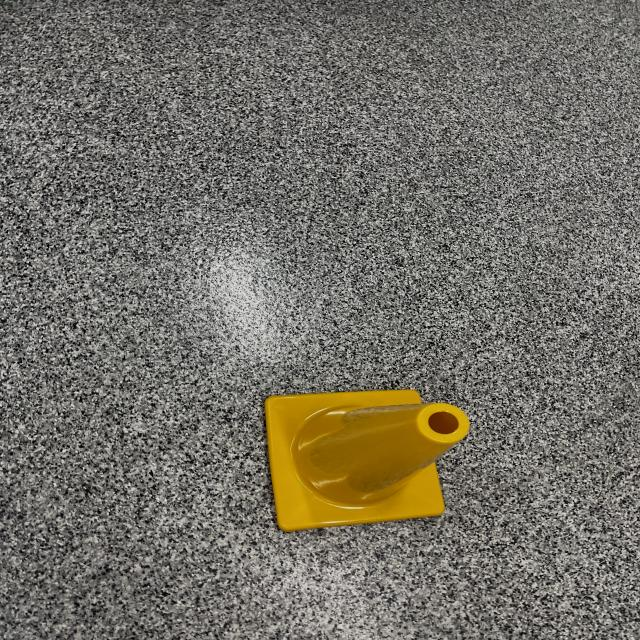frc_cone: (268, 382, 484, 532)
